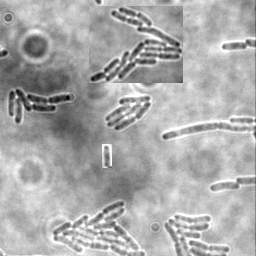Dividing: (161, 123, 255, 142), (221, 41, 248, 52), (102, 144, 112, 168)
Microcolony: (89, 6, 183, 83), (51, 200, 147, 255), (162, 212, 231, 255), (8, 89, 72, 126), (106, 96, 153, 132), (208, 182, 240, 193)
